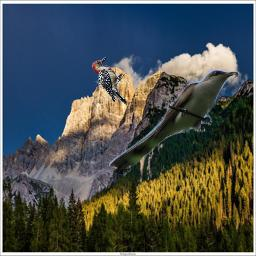Cuckoo: (109, 68, 238, 169)
Woodpecker: (92, 57, 127, 105)
